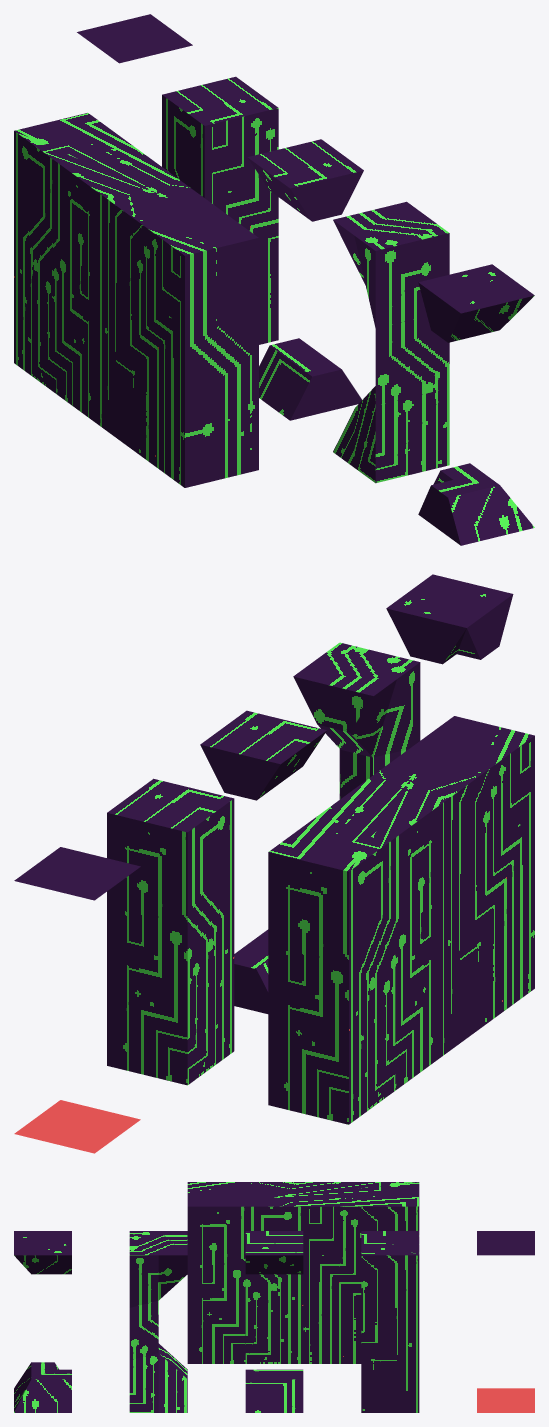
The model's file is wallstreet.glb.
3 views of the same model, one above another, from view 1: azimuth 30°, elevation 25°; view 2: azimuth 150°, elevation 25°; view 3: azimuth 270°, elevation 25° (orthographic). The views are drawn at different scales.
Parts seen in each view (by area): view 1: Wall4x1, WindowEdge, Wall, WindowCorner, Window, Floor; view 2: Wall4x1, Wall, WindowEdge, Window, WindowCorner, Floor; view 3: Wall4x1, Wall, WindowEdge, Window, WindowCorner, Floor.
Part boxes in pixels (x1,y1,x2,y2): Wall4x1: (14,113,258,487); WindowEdge: (333,201,449,483); Wall: (162,76,278,344); WindowCorner: (418,264,534,545); Window: (247,139,363,420); Floor: (77,14,192,63); Wall4x1: (268,716,534,1124); Wall: (107,778,234,1085); WindowEdge: (293,642,420,799); Window: (200,710,326,1013); WindowCorner: (386,574,513,664); Floor: (14,847,140,1153); Wall4x1: (187,1182,419,1363); Wall: (361,1231,419,1412); WindowEdge: (129,1231,187,1412); Window: (245,1231,303,1412); WindowCorner: (14,1231,71,1412); Floor: (477,1231,534,1412).
Size of what is drawn, in the model's own units: 3 by 3 by 9.
Materials: 1 (1 with a texture image).
